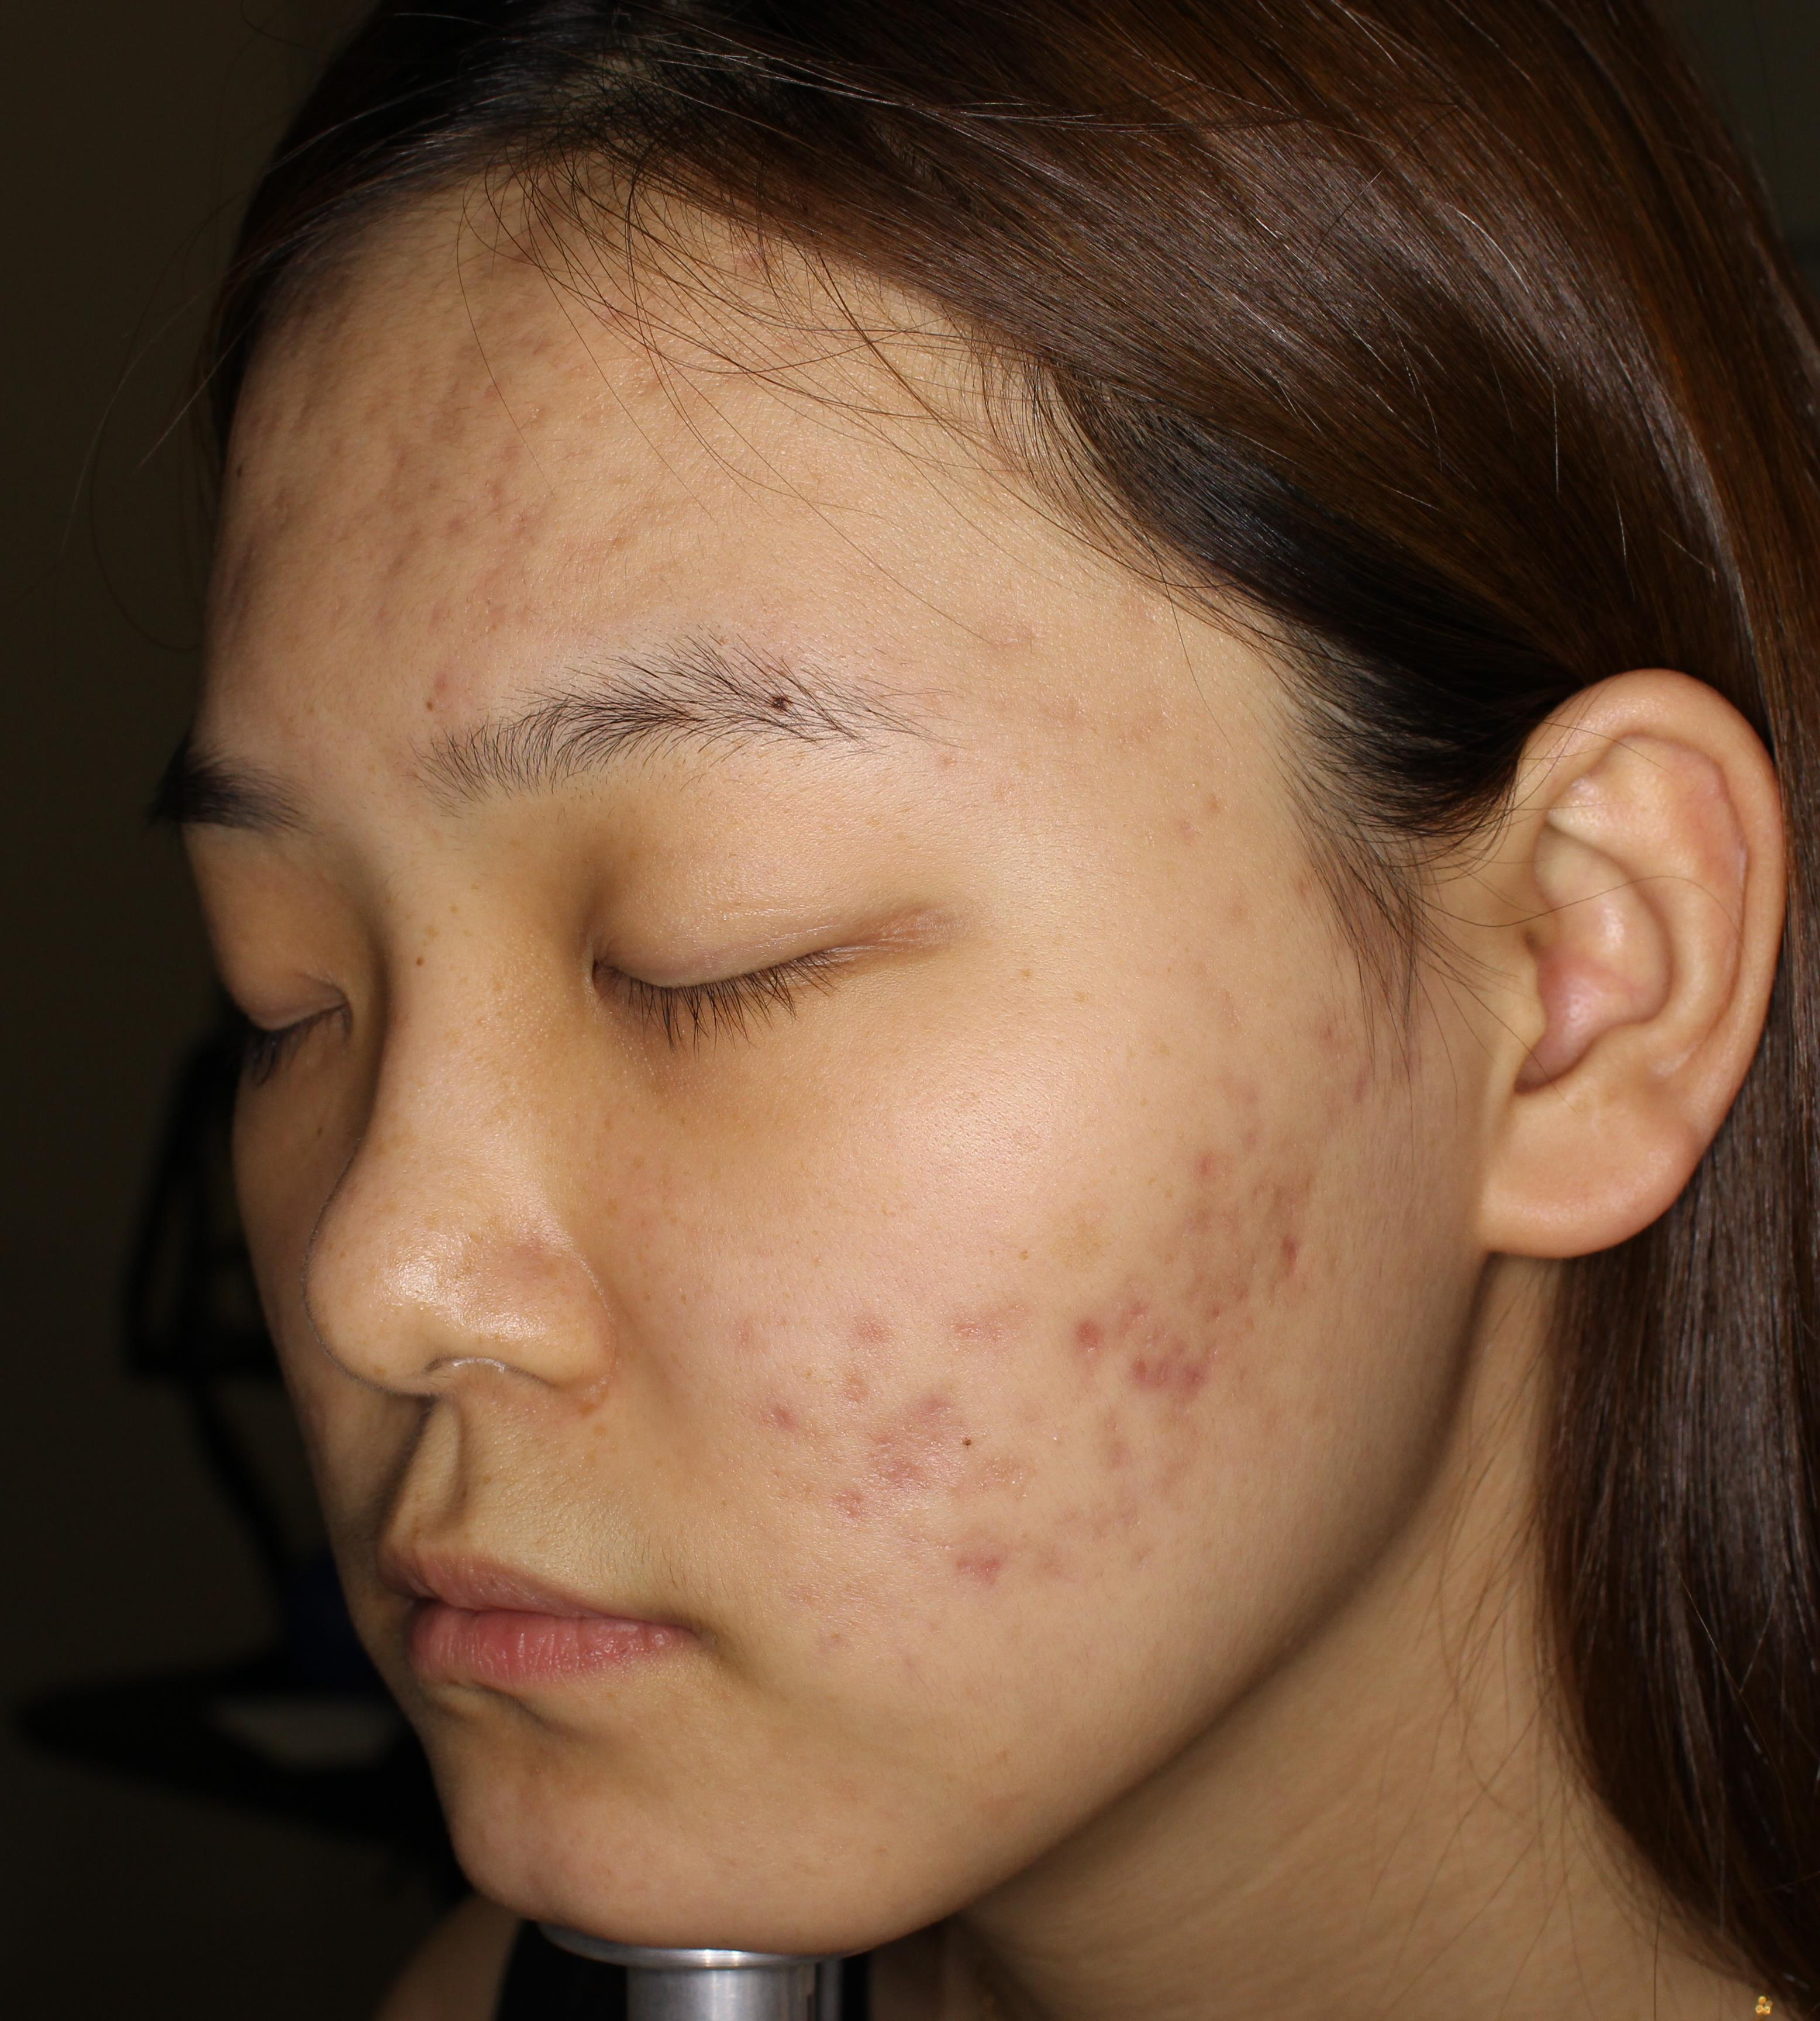fore: (404, 636, 525, 737), (950, 1514, 1054, 1621), (875, 1352, 942, 1482), (1247, 1190, 1328, 1298), (1161, 1110, 1233, 1217), (1144, 1315, 1207, 1419), (1045, 1271, 1112, 1361), (750, 1375, 817, 1442)
